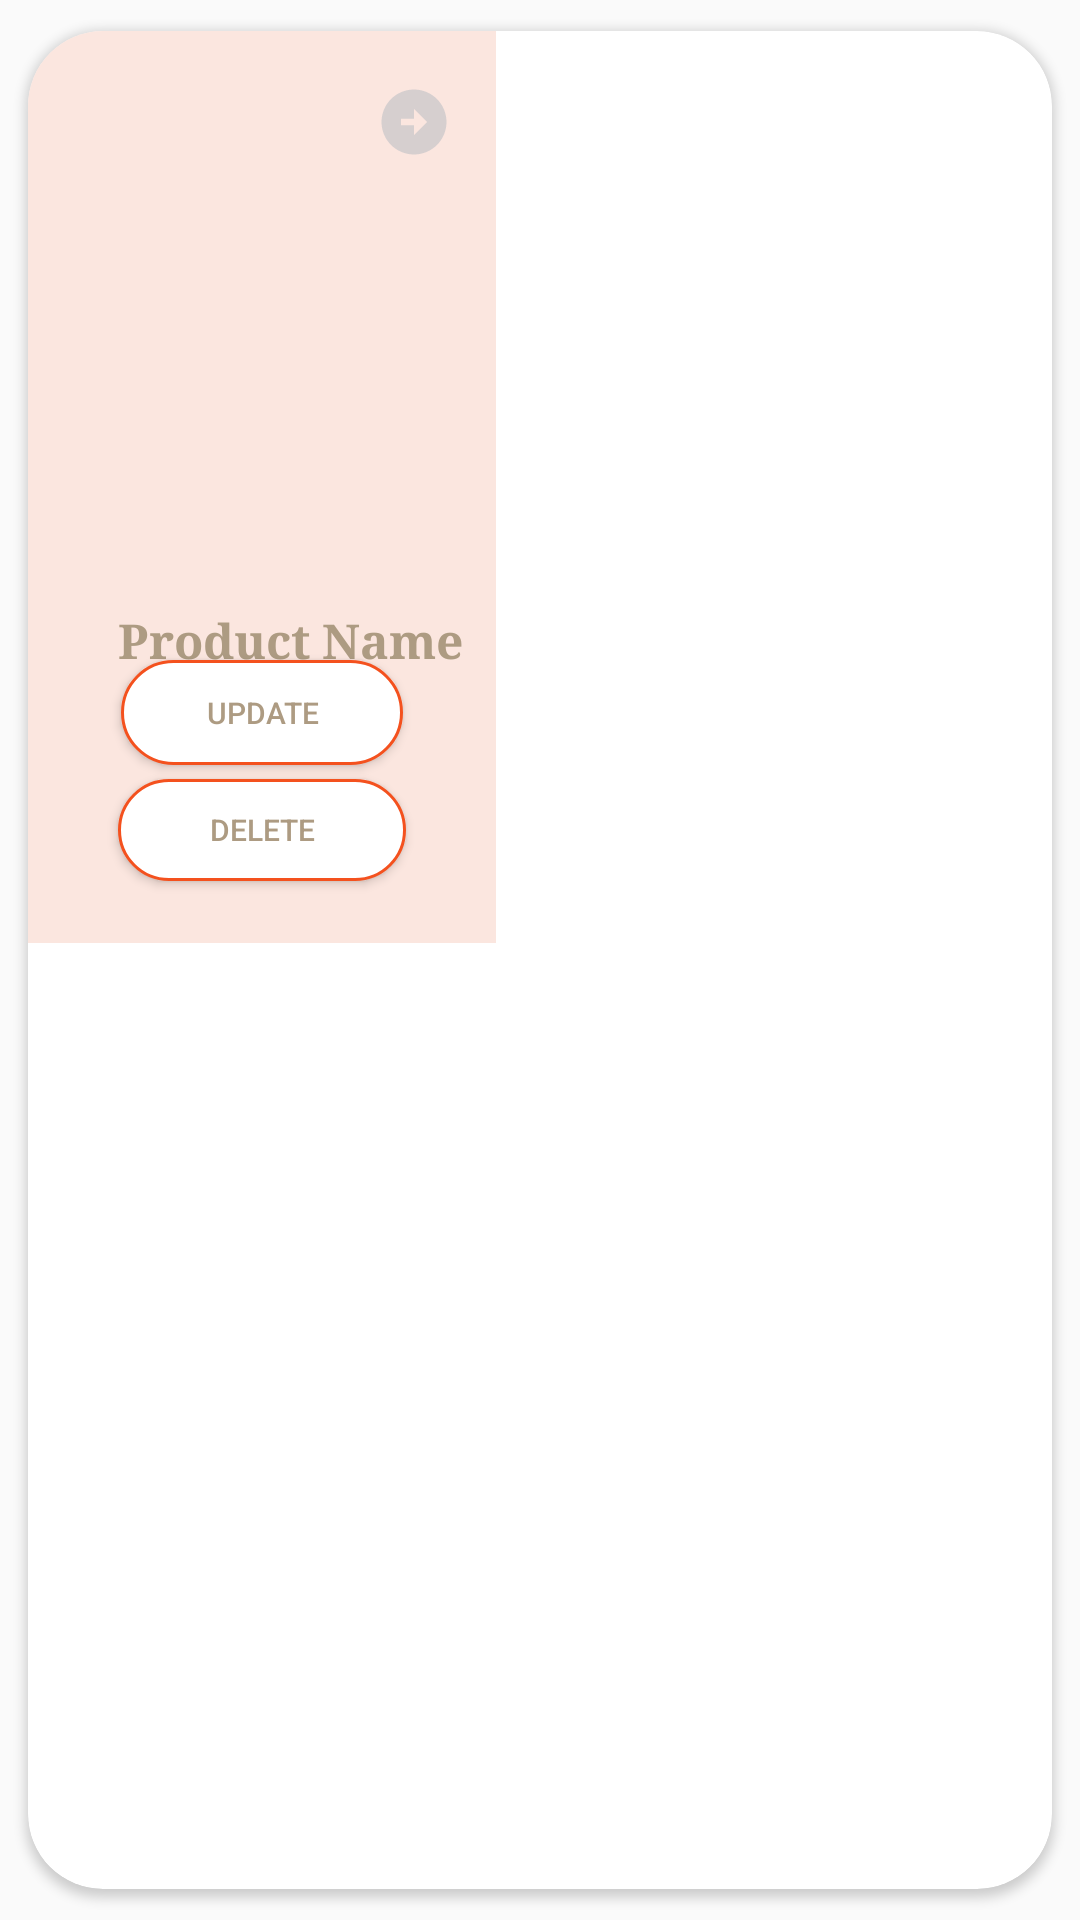

Named icons in this screenshot (1080*1920) and their bounding boxes, (x1, y1, x2, y2):
arrow circle right: (382, 90, 446, 154)
